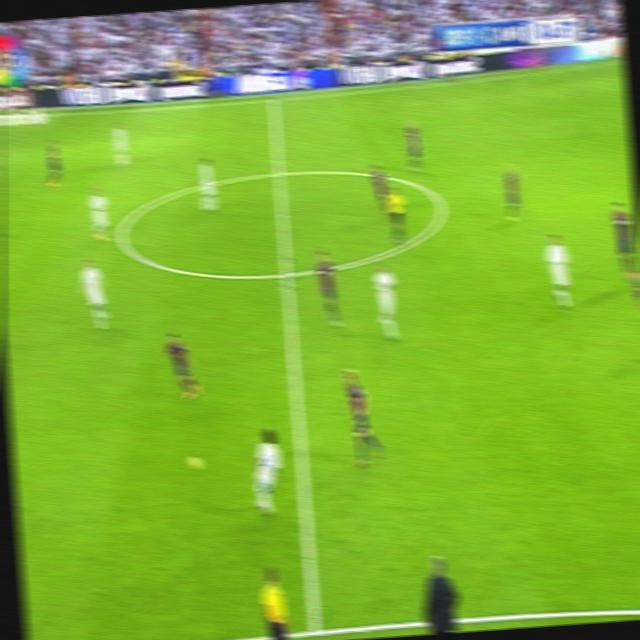halfcircle_bottom: (275, 255, 296, 291)
halfcircle_top: (268, 157, 288, 187)
midline_bottom_intersection: (300, 603, 327, 637)
midline_top_intersection: (265, 90, 280, 110)
